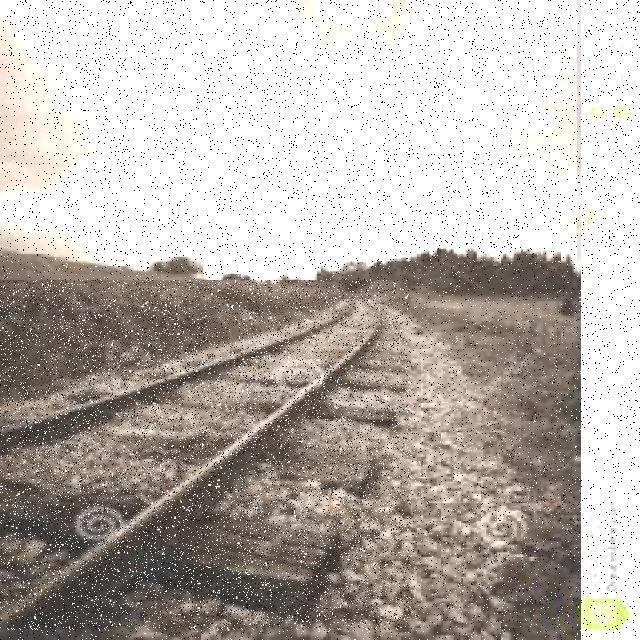rail: (1, 282, 411, 630)
